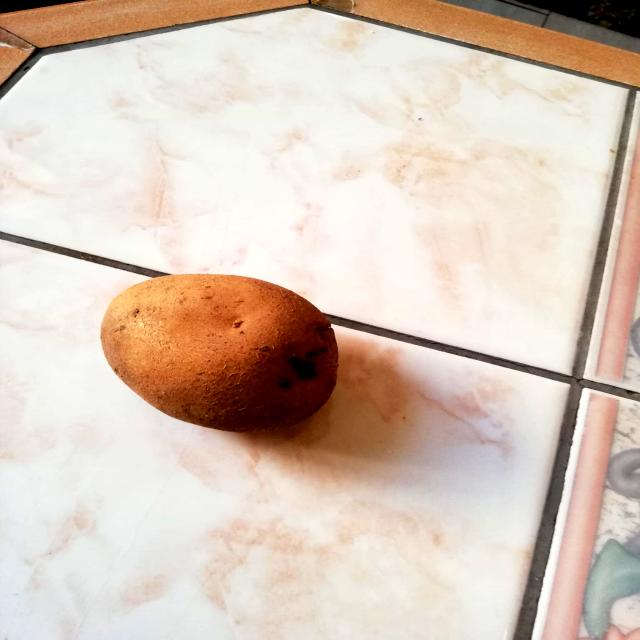potato: (97, 266, 343, 438)
